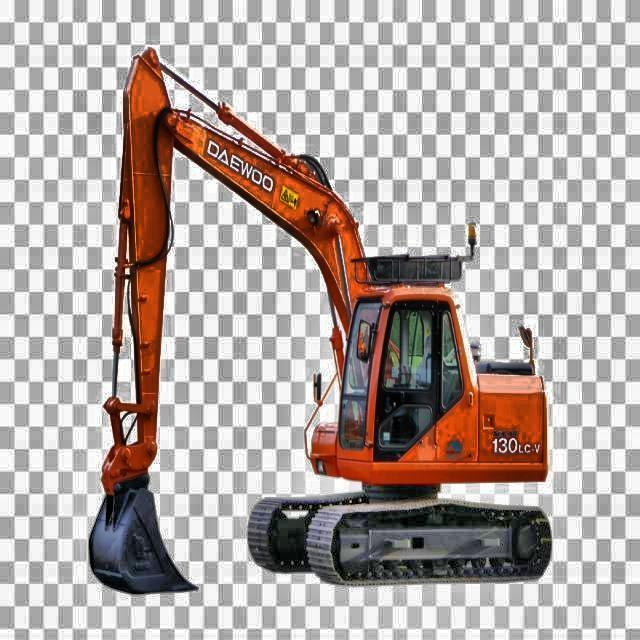excavator: (82, 48, 556, 598)
